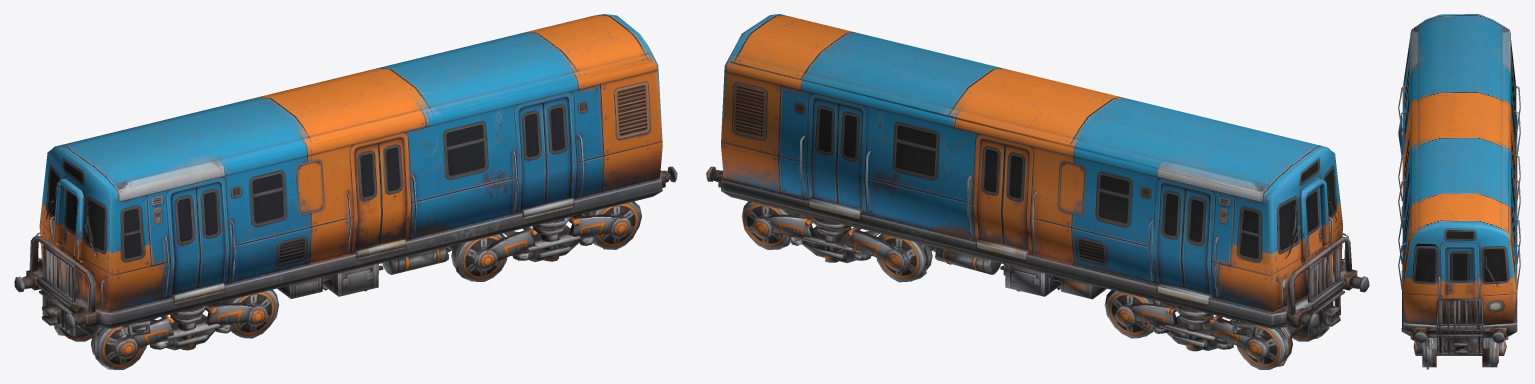
File: Meshy_AI_Rustbelt_Metro_Car_1121063156_texture.glb
3 renders of one model, left to right at view 1: azimuth 30°, elevation 25°; view 2: azimuth 150°, elevation 25°; view 3: azimuth 270°, elevation 25°, orthographic. The views are drawn at different scales.
Bounding box in the file's own units: 6.21 × 1.95 × 1.38.
1 material, 1 textured.
